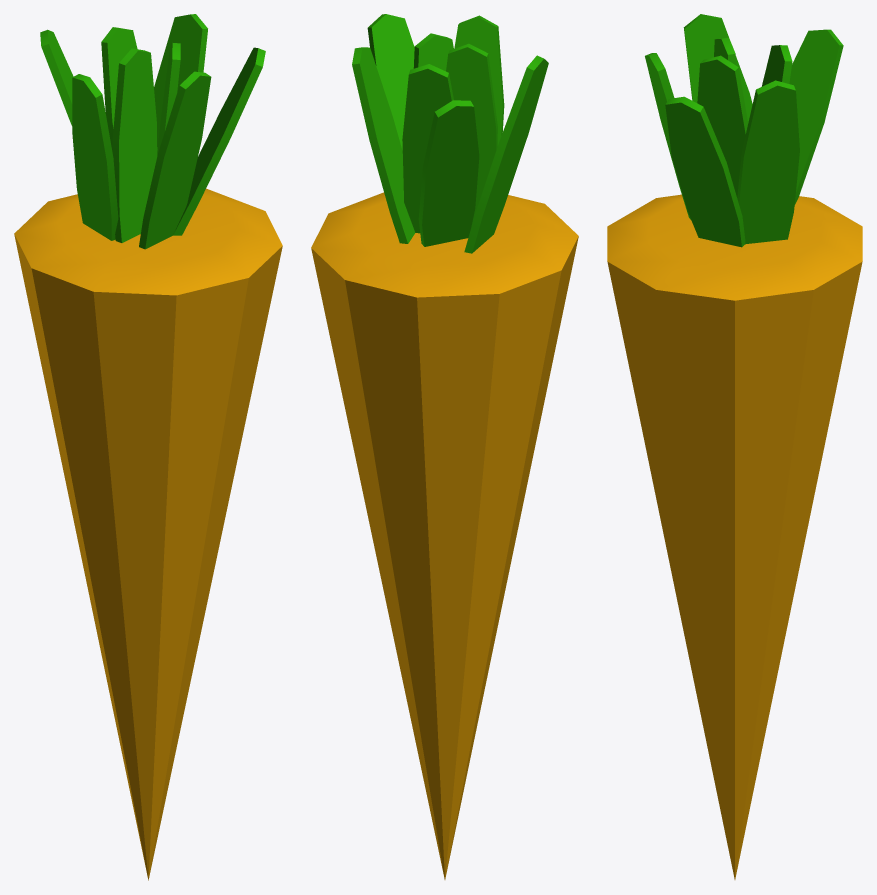
The model's file is carrot.fbx.
3 renders of one model, left to right at view 1: azimuth 30°, elevation 25°; view 2: azimuth 150°, elevation 25°; view 3: azimuth 270°, elevation 25°, orthographic.
Parts seen in each view (by area): view 1: carrot; view 2: carrot; view 3: carrot.
Boxes of the visible parts, <box> form: carrot: <box>14,14,282,880</box>; carrot: <box>311,14,578,879</box>; carrot: <box>607,14,862,879</box>.
Bounding box in the file's own units: 64.54 × 221 × 61.38.
